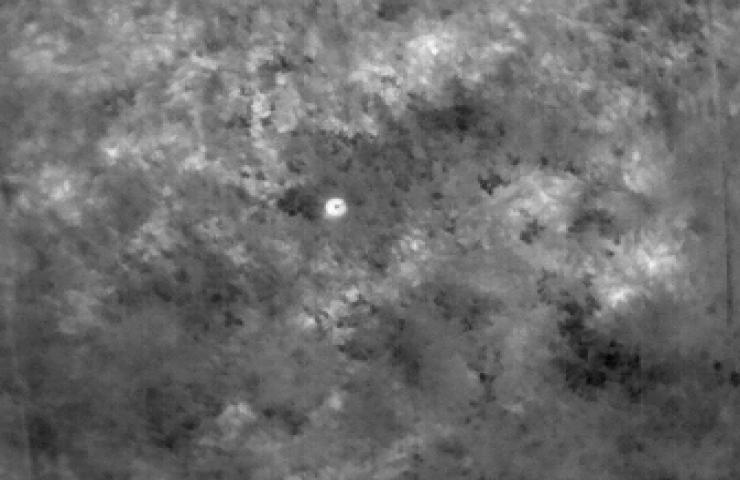landmines: (323, 196, 351, 219)
